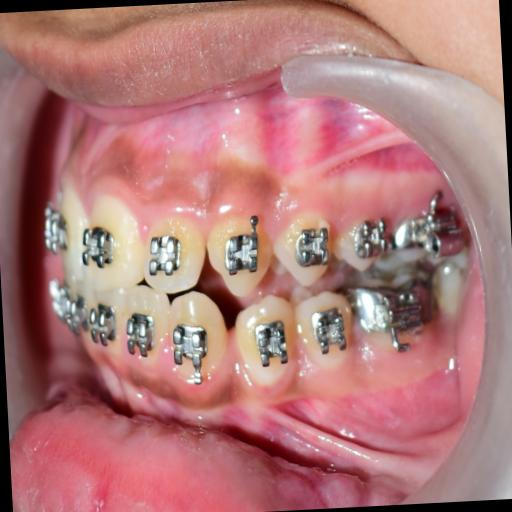correct_brace: (229, 292, 305, 402), (272, 204, 338, 289), (217, 213, 268, 280), (310, 302, 352, 362), (250, 316, 294, 372), (172, 318, 213, 378), (146, 228, 186, 280)
incorrect_brace: (134, 208, 210, 298), (292, 224, 334, 274)
